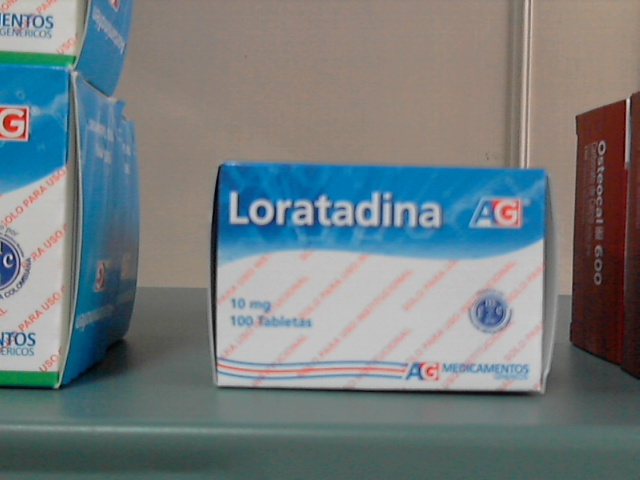AG: (220, 163, 541, 391)
